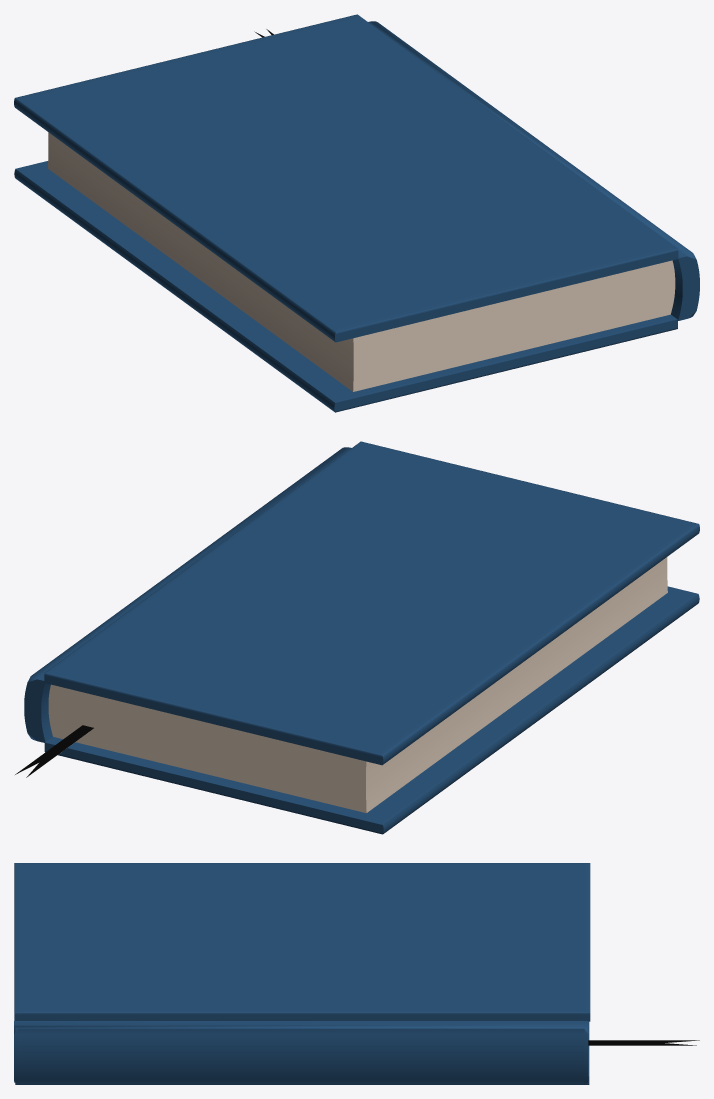
File: 日記帳.fbx
The picture shows the model from 3 angles, top to bottom: view 1: azimuth 30°, elevation 25°; view 2: azimuth 150°, elevation 25°; view 3: azimuth 270°, elevation 25°; orthographic projection. The views are drawn at different scales.
Visible parts, largest first — view 1: 立方体.002, 立方体.003, 立方体.001, 立方体; view 2: 立方体.002, 立方体.003, 立方体.001, 立方体, 立方体.004; view 3: 立方体.002, 立方体, 立方体.001, 立方体.004.
Boxes of the visible parts, <box> form: 立方体.002: <box>14,14,678,342</box>; 立方体.003: <box>48,31,675,391</box>; 立方体.001: <box>14,161,677,412</box>; 立方体: <box>368,21,699,320</box>; 立方体.002: <box>44,441,699,765</box>; 立方体.003: <box>19,557,667,813</box>; 立方体.001: <box>44,586,699,834</box>; 立方体: <box>24,447,351,742</box>; 立方体.004: <box>15,725,93,777</box>; 立方体.002: <box>14,863,590,1021</box>; 立方体: <box>14,1021,588,1084</box>; 立方体.001: <box>15,1022,589,1084</box>; 立方体.004: <box>588,1040,699,1045</box>.
Bounding box in the file's own units: 246 × 52.15 × 446.
